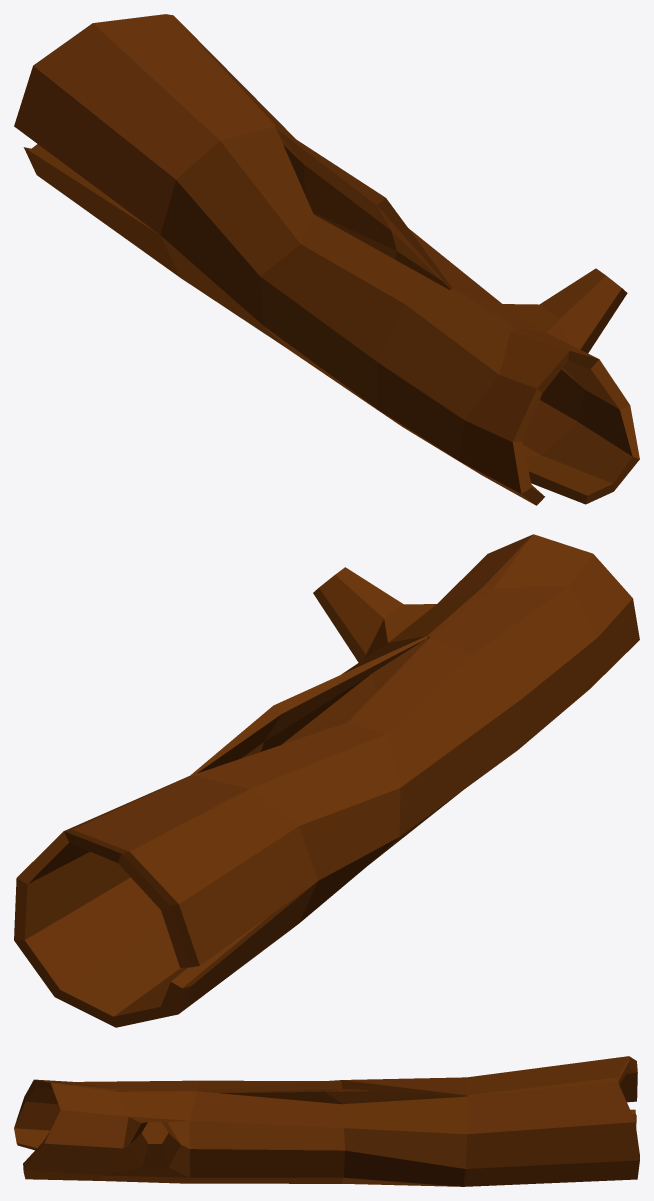
The model's file is Log_03.fbx.
The picture shows the model from 3 angles, top to bottom: view 1: azimuth 30°, elevation 25°; view 2: azimuth 150°, elevation 25°; view 3: azimuth 270°, elevation 25°; orthographic projection. The views are drawn at different scales.
Parts seen in each view (by area): view 1: Log_03; view 2: Log_03; view 3: Log_03.
Boxes of the visible parts, x1=… form: Log_03: x1=14, y1=14, x2=639, y2=505; Log_03: x1=14, y1=534, x2=639, y2=1027; Log_03: x1=14, y1=1056, x2=639, y2=1186.
Size of the model in its own units: 96.8 by 66.69 by 320.
